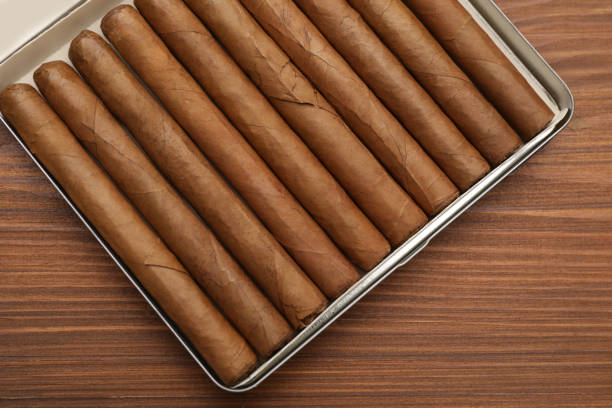cigarette: (66, 28, 330, 334), (0, 81, 261, 388), (32, 58, 294, 360), (98, 3, 361, 301), (131, 0, 393, 273), (181, 0, 430, 248), (238, 0, 461, 218), (293, 0, 492, 191), (347, 0, 524, 168), (400, 0, 556, 144)
